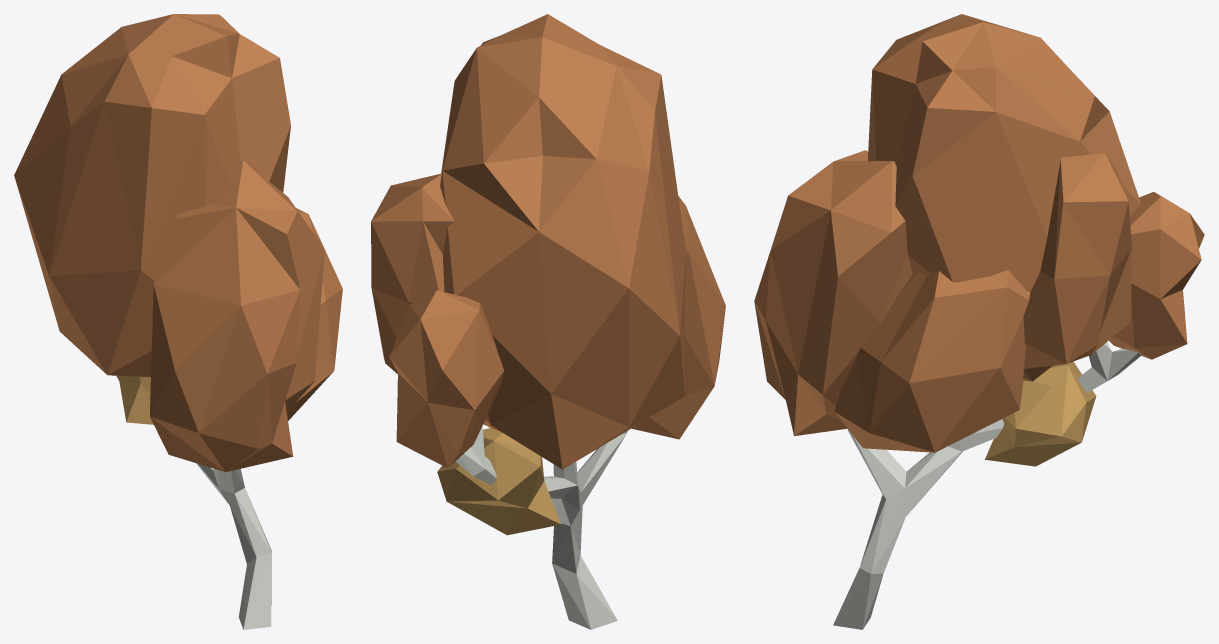
Rendered from BirchTree_Autumn_1.lod2.glb.
The picture shows the model from 3 angles, left to right: view 1: azimuth 30°, elevation 25°; view 2: azimuth 150°, elevation 25°; view 3: azimuth 270°, elevation 25°; orthographic projection. The views are drawn at different scales.
Visible parts, largest first — view 1: BirchTree_Autumn_1; view 2: BirchTree_Autumn_1; view 3: BirchTree_Autumn_1.
Boxes of the visible parts, left/top/right/bottom form: BirchTree_Autumn_1: left=14, top=14, right=342, bottom=629; BirchTree_Autumn_1: left=371, top=14, right=725, bottom=629; BirchTree_Autumn_1: left=754, top=14, right=1204, bottom=629.
Bounding box in the file's own units: 1.7 × 3.59 × 2.48.
